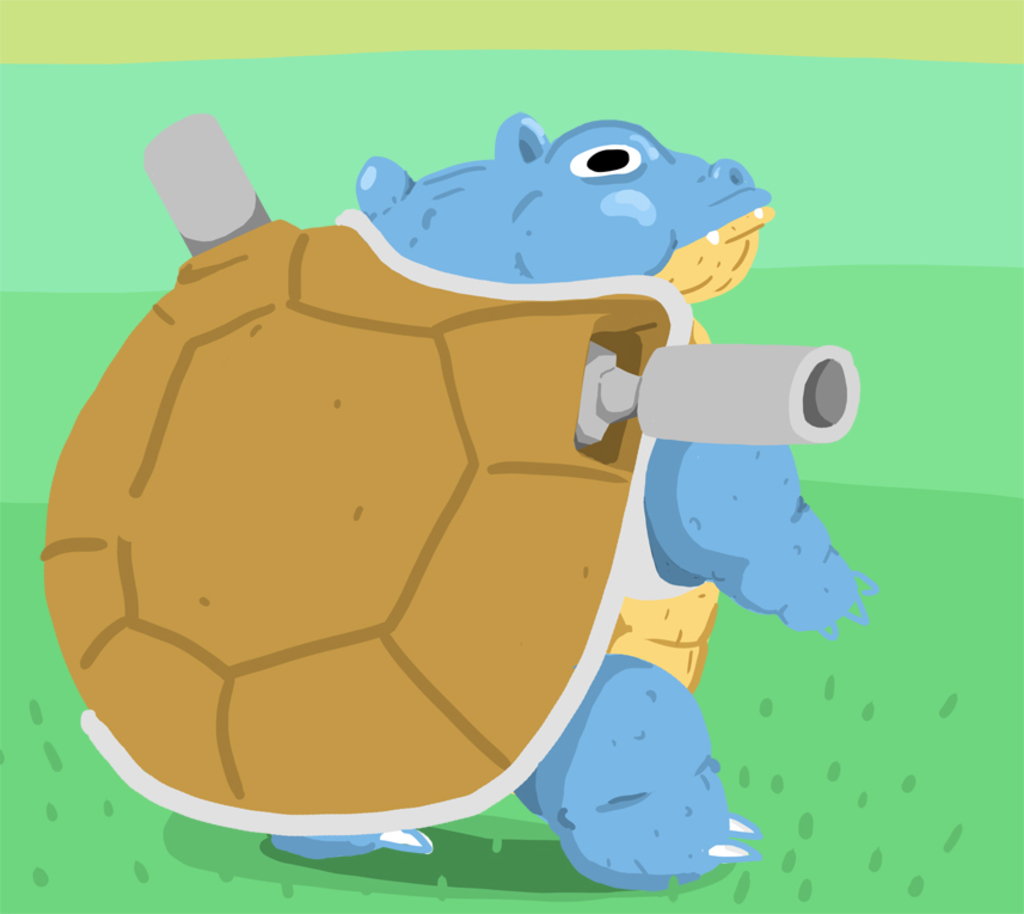Sea turtles: (40, 106, 887, 897)
